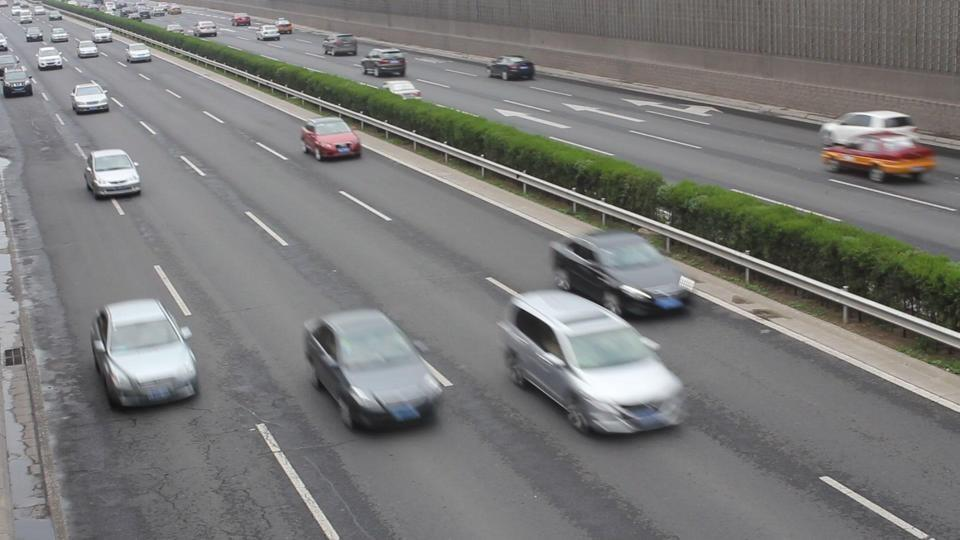car: (498, 285, 684, 437), (302, 307, 451, 432), (547, 229, 696, 320), (90, 298, 198, 410), (818, 110, 938, 183), (82, 147, 143, 199), (299, 116, 362, 161), (69, 80, 110, 115), (360, 49, 407, 77), (487, 55, 536, 81), (1, 66, 35, 97), (34, 46, 65, 71), (77, 40, 99, 59)
